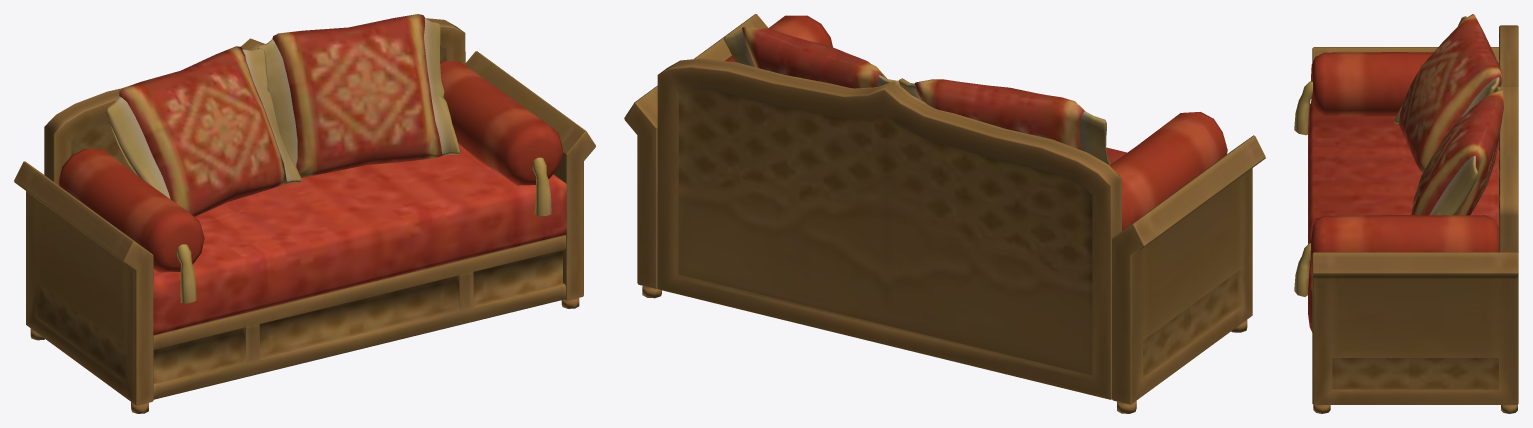
3 views of the same model, side by side, from view 1: azimuth 30°, elevation 25°; view 2: azimuth 150°, elevation 25°; view 3: azimuth 270°, elevation 25° (orthographic). The views are drawn at different scales.
Size of the model in its own units: 19.95 by 10.03 by 8.82.
Materials: 1 (1 with a texture image).
